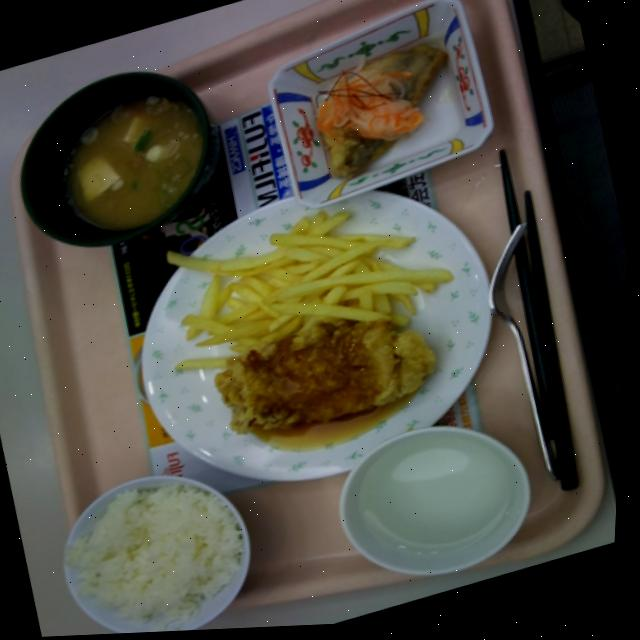炸货点心: (121, 149, 503, 401)
米饭主食: (41, 435, 289, 638)
